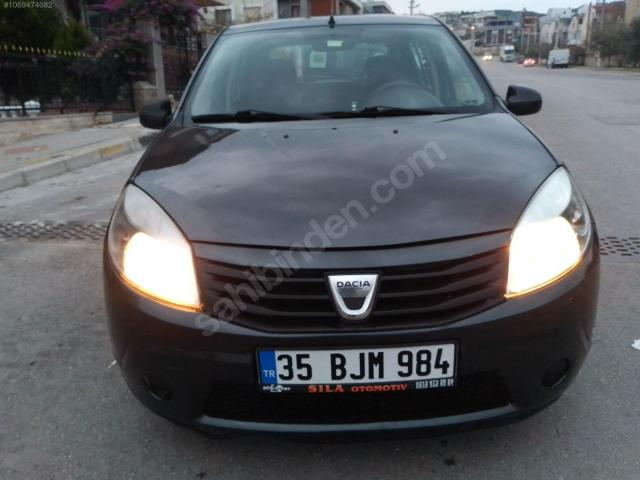plaka: (257, 343, 456, 392)
